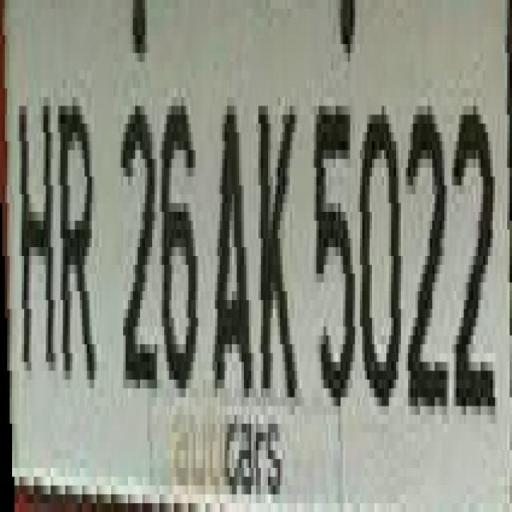number plate: (22, 0, 510, 486)
